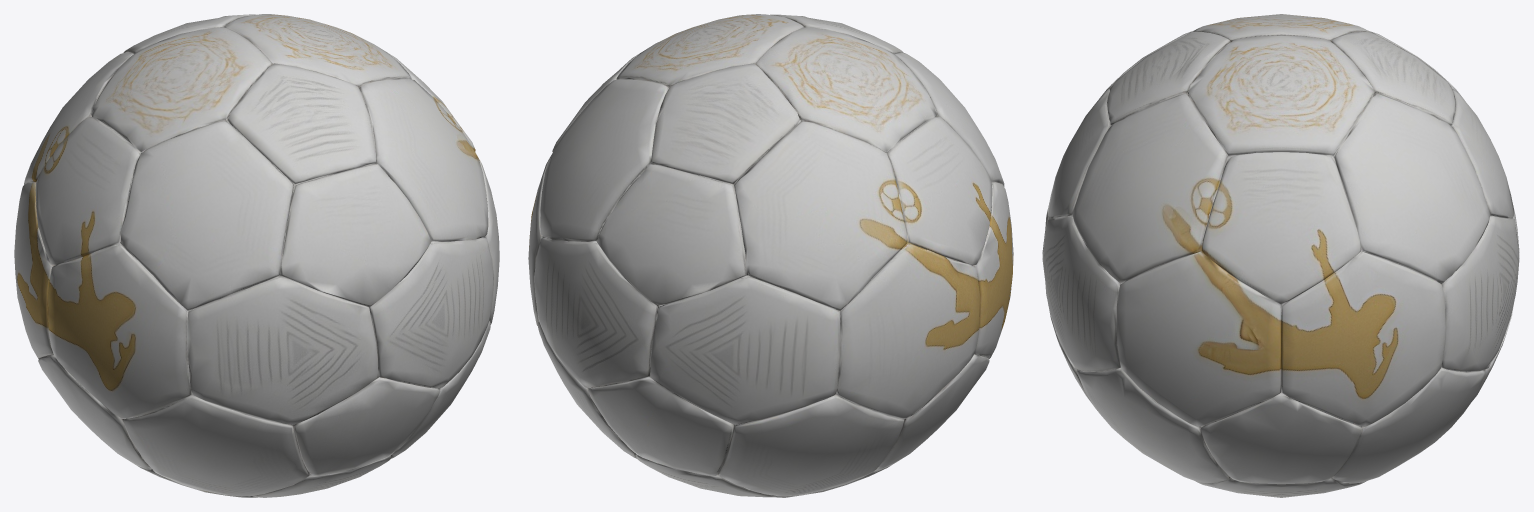
The model's file is soccer+ball+3d+model.glb.
3 renders of one model, left to right at view 1: azimuth 30°, elevation 25°; view 2: azimuth 150°, elevation 25°; view 3: azimuth 270°, elevation 25°, orthographic.
Parts seen in each view (by area): view 1: tripo_node_c5adc742-4765-4593-9872-7fb9bcb8a957; view 2: tripo_node_c5adc742-4765-4593-9872-7fb9bcb8a957; view 3: tripo_node_c5adc742-4765-4593-9872-7fb9bcb8a957.
Boxes of the visible parts, x1,y1,x2,y2 form: tripo_node_c5adc742-4765-4593-9872-7fb9bcb8a957: (14, 14, 499, 497); tripo_node_c5adc742-4765-4593-9872-7fb9bcb8a957: (528, 14, 1013, 497); tripo_node_c5adc742-4765-4593-9872-7fb9bcb8a957: (1042, 14, 1519, 497).
Size of the model in its own units: 0.998 by 0.998 by 0.9941.
Materials: 1 (1 with a texture image).
